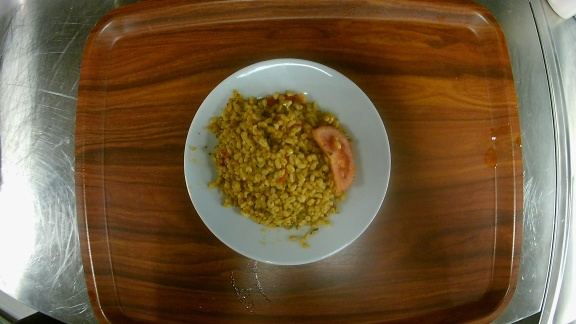bulgur: (183, 58, 393, 264)
